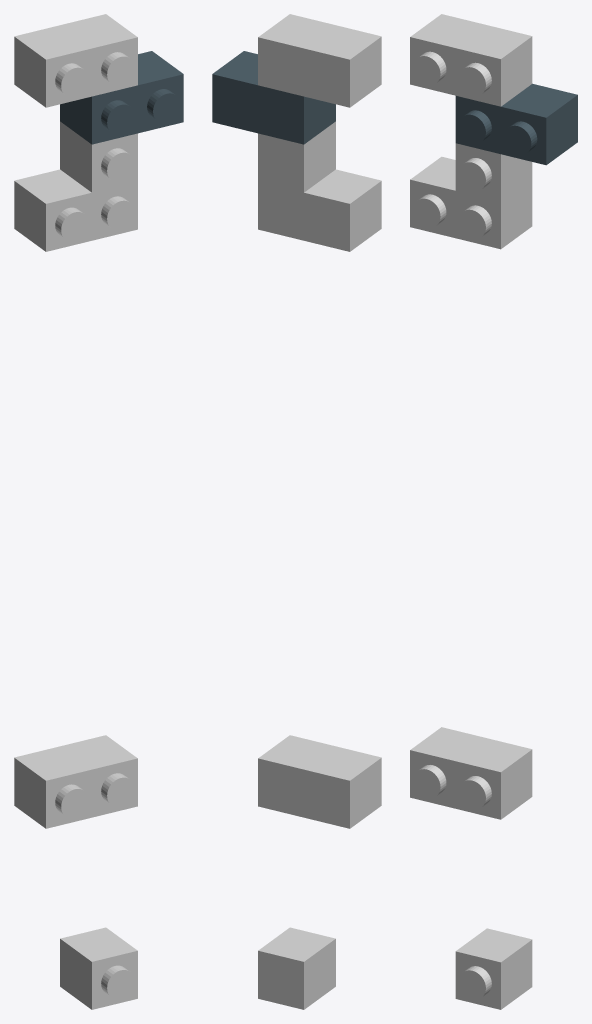
File: current.glb
The picture shows the model from 3 angles, left to right: view 1: azimuth 30°, elevation 25°; view 2: azimuth 150°, elevation 25°; view 3: azimuth 330°, elevation 25°; orthographic projection.
Parts seen in each view (by area): view 1: world; view 2: world; view 3: world.
Part boxes in pixels (box(x1,y1,x2,y2)): world: box(14, 14, 183, 1009); world: box(212, 14, 381, 1009); world: box(410, 14, 577, 1009).
Bounding box in the file's own units: 24 × 160 × 11.4.
